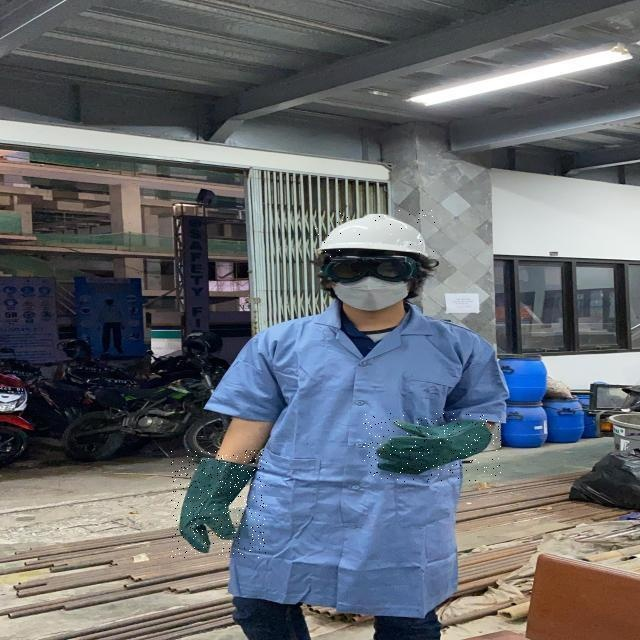Gafas: (324, 251, 416, 282)
Guantes: (181, 457, 252, 555), (376, 422, 476, 476)
